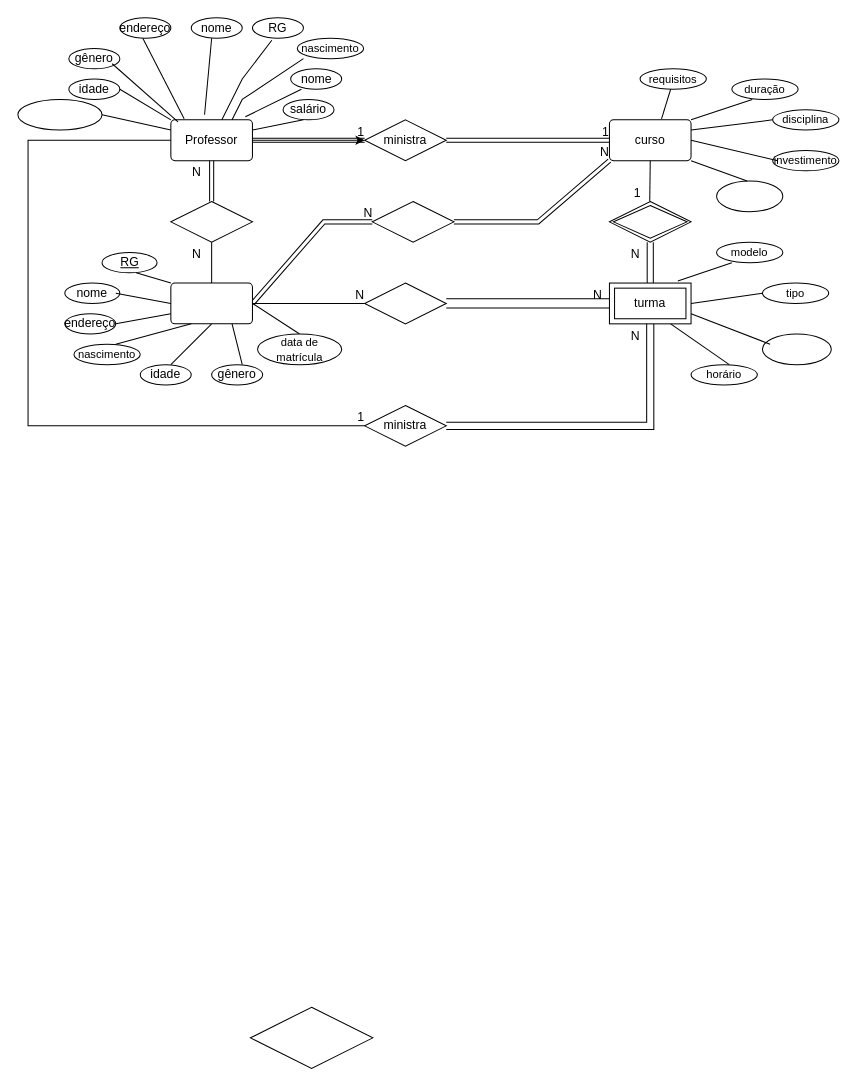
This 857x1086 diagram has some shape labels left out. The shapes that lost their labels are listed below. From the top down, each one's centre as x and y in pixels, then its label:
At [59,114]: "disponibilidade".
At [749,196]: "nível/estágio".
At [211,221]: "Orienta".
At [412,221]: "matricula".
At [649,221]: "Existe".
At [211,303]: "Aluno".
At [405,303]: "pertence".
At [796,349]: "dias da semana".
At [311,1037]: "Relationship".
